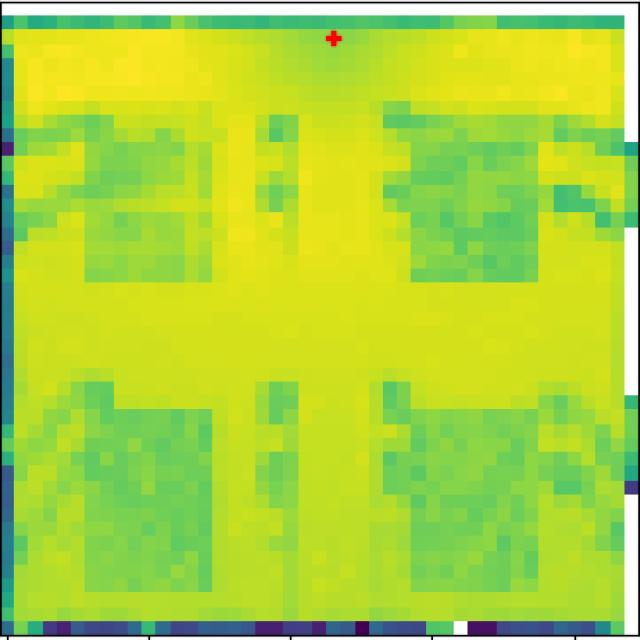Concrete: (88, 408, 214, 590)
Glass: (412, 409, 538, 590)
Metal: (84, 140, 212, 282)
Wood: (413, 138, 537, 281)
